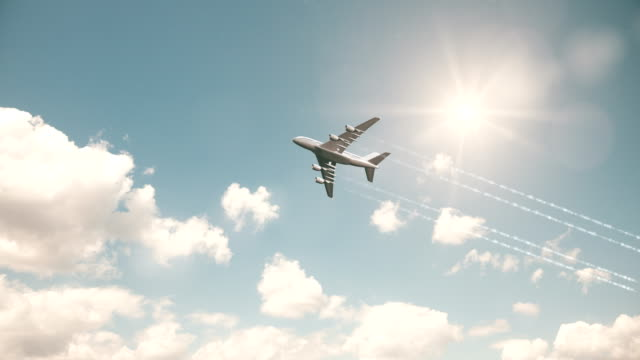plane: (291, 115, 392, 199)
